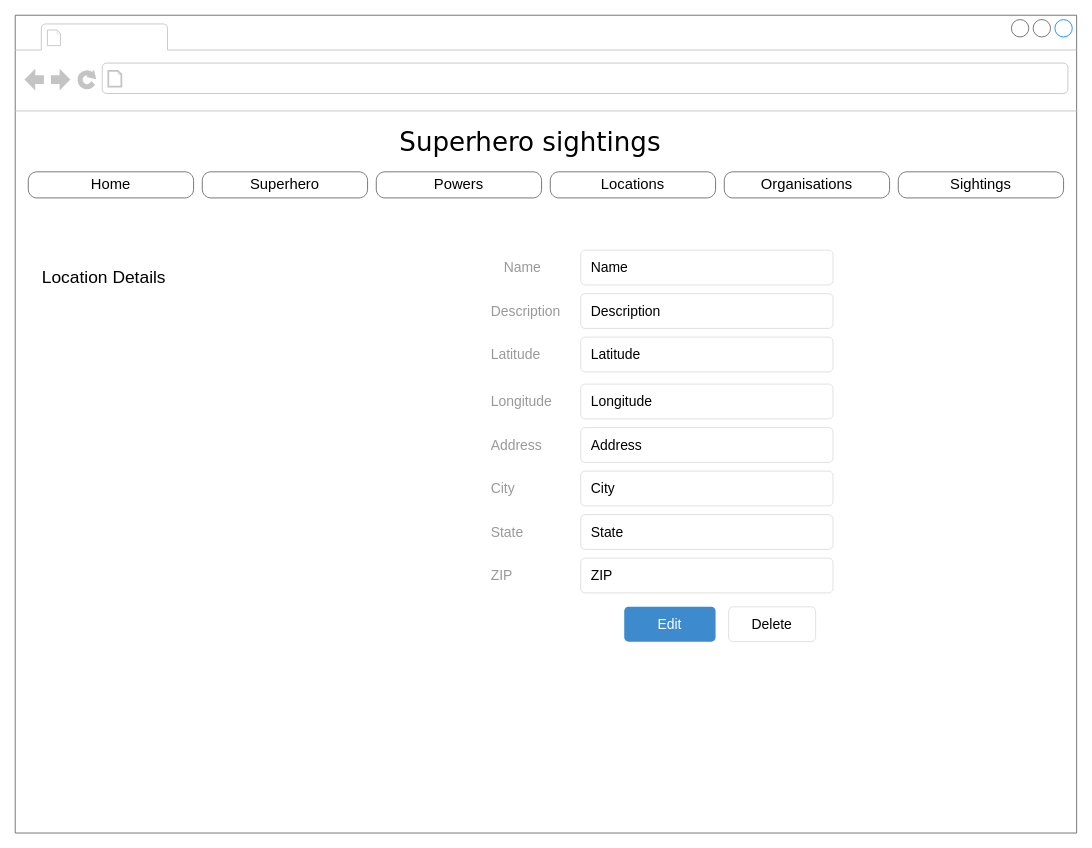
Some shapes in this 1092 by 848 pixel diagram are drawn without their labels. The centre of each missing label's shape, as x and y in pixels:
https://www.superherosightings.com/locationDetail?id=1: (x=384, y=78)
Superhero Si: (x=110, y=36)
